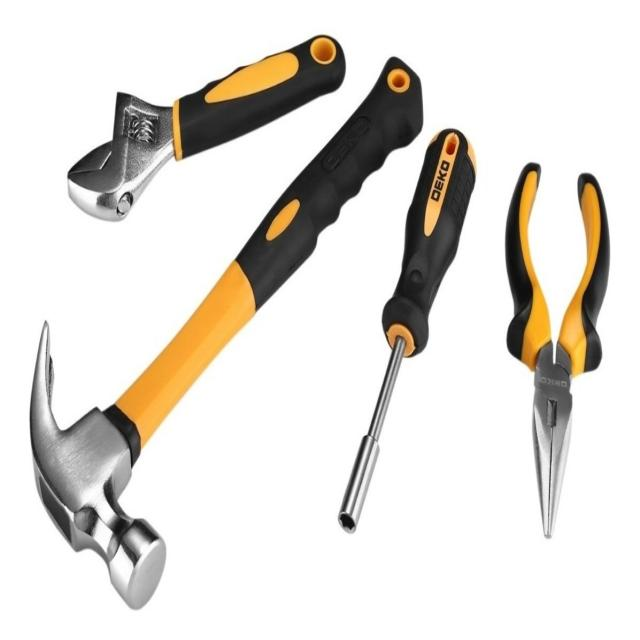Screwdriver: (339, 129, 476, 529)
